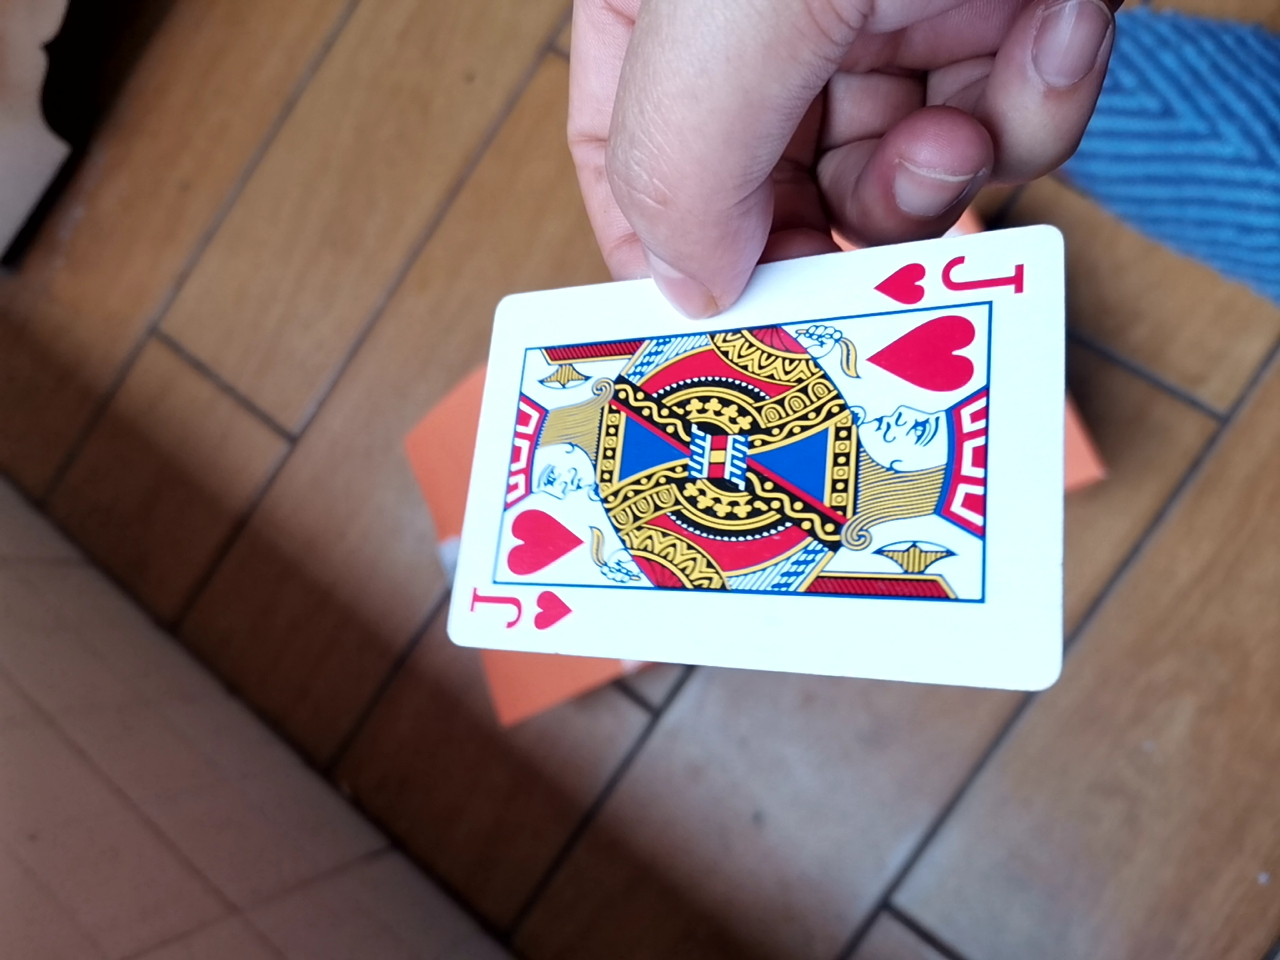hx j: (406, 226, 1084, 698)
